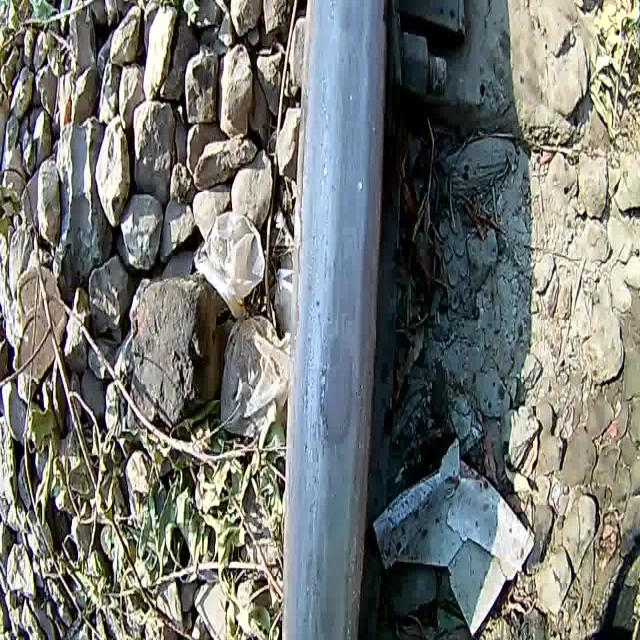Squats: (262, 0, 408, 640)
